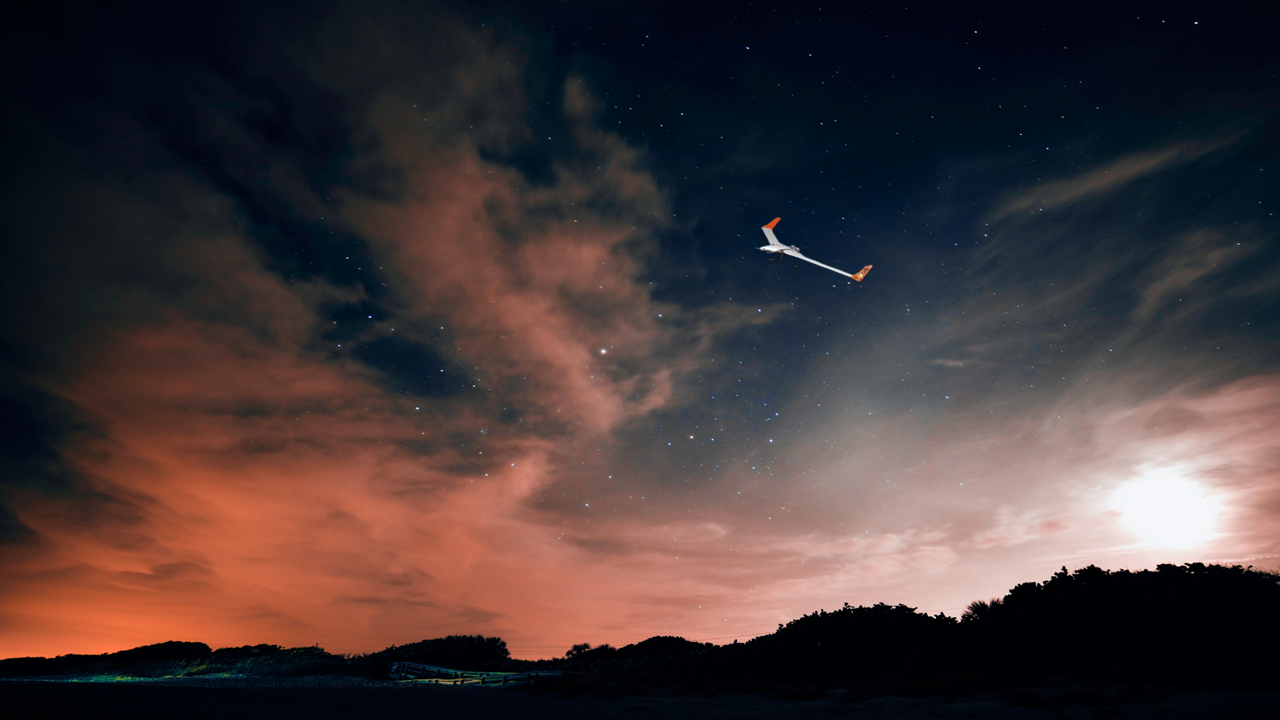military drone: (759, 217, 872, 281)
